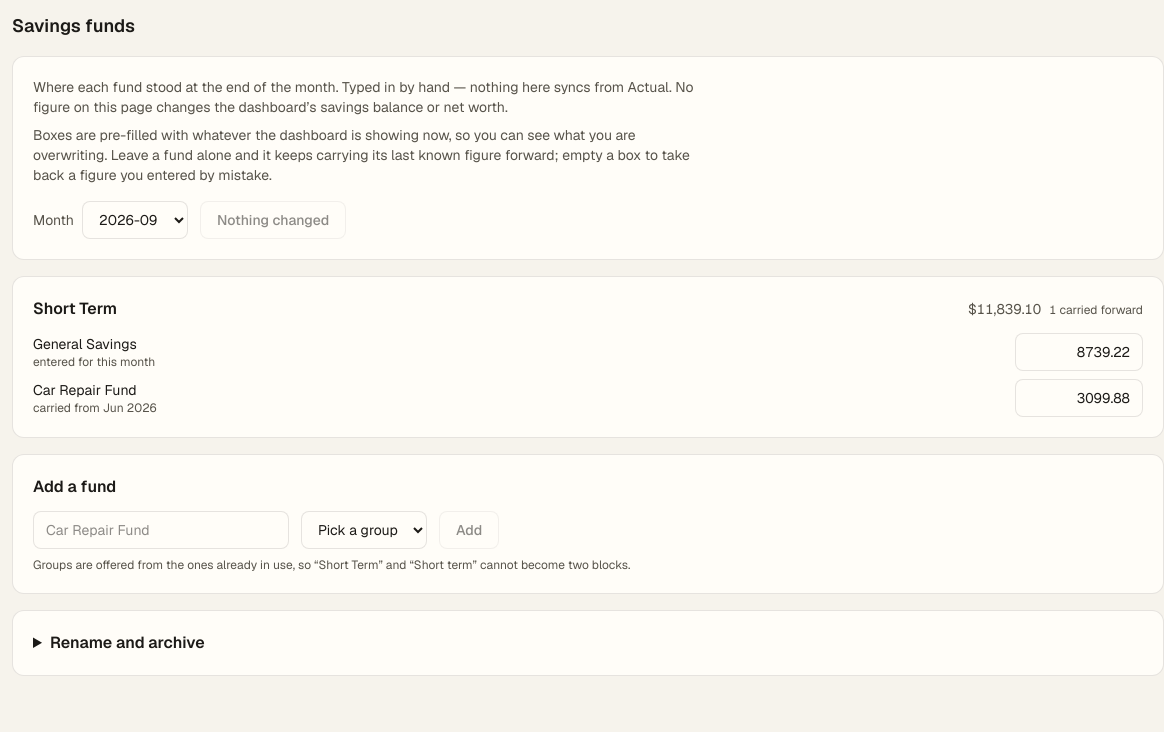
Scenario: a failed load withholds the grid rather than labelling old figures with a new month
Select "2026-08" in the dropdown labelled "Month" at (135, 220), box [82,201,188,239]
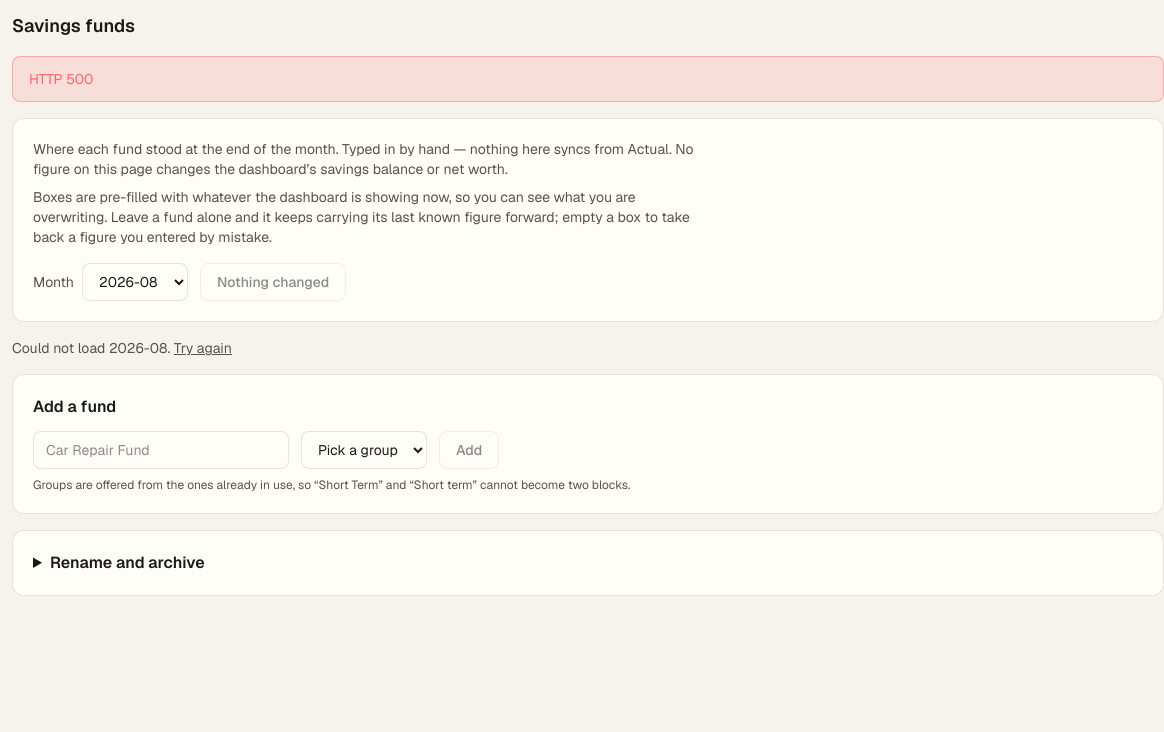
Result: the text "Could not load 2026-08. Try again" is shown at [12,338,232,358]
Result: the button "Try again" is shown at [174,338,232,358]
